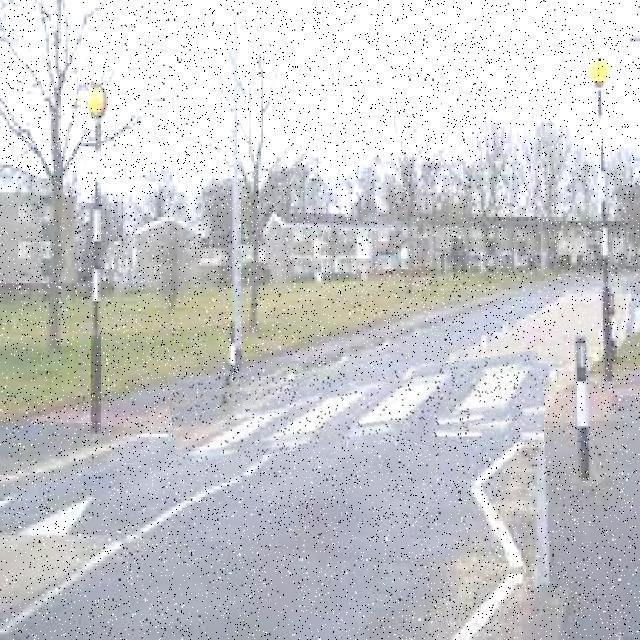crosswalk: (170, 363, 546, 455)
